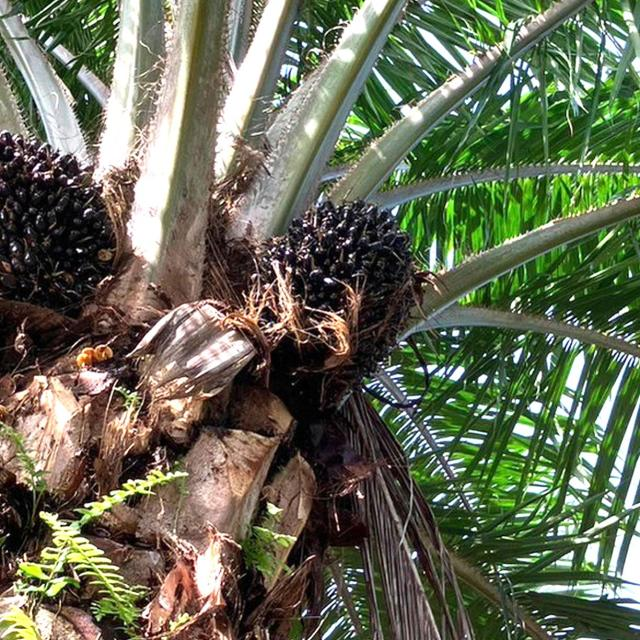unripe: (252, 202, 406, 384)
